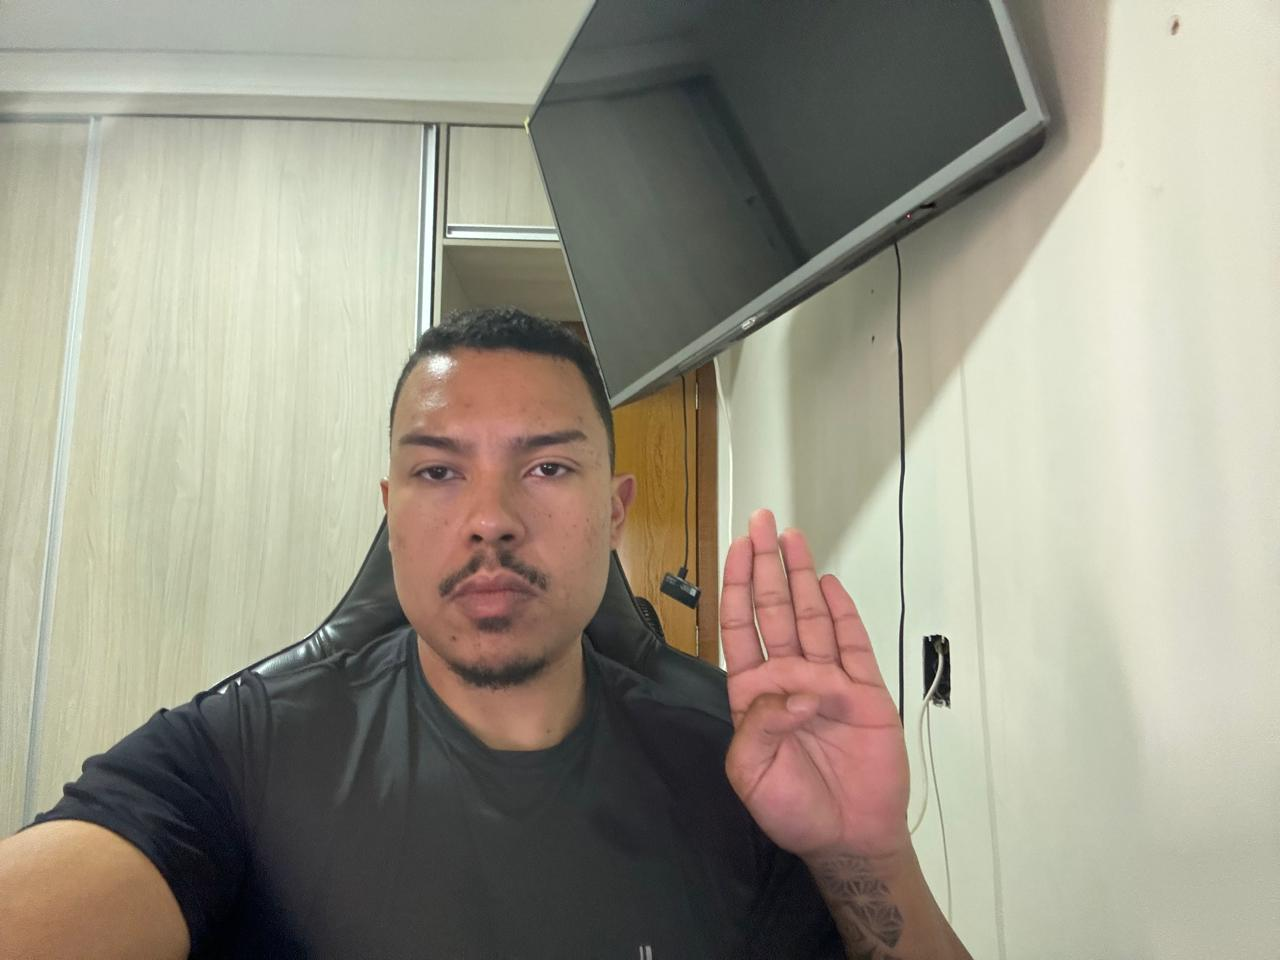b: (710, 499, 922, 866)
